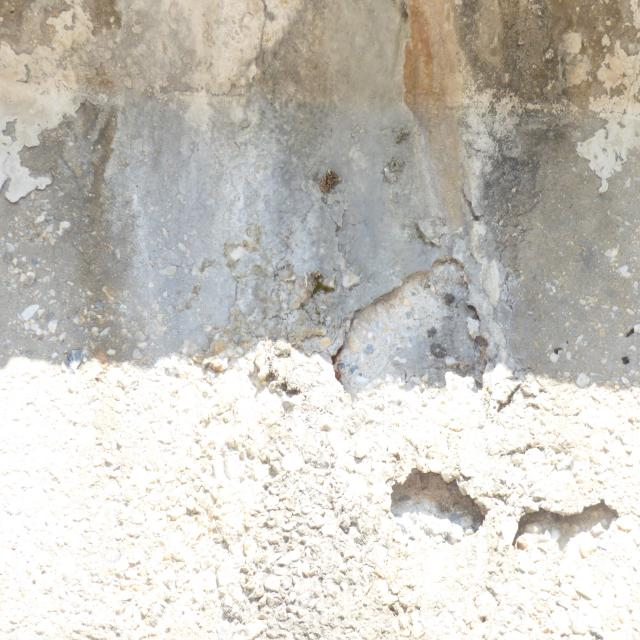corrosion: (328, 346, 346, 384)
